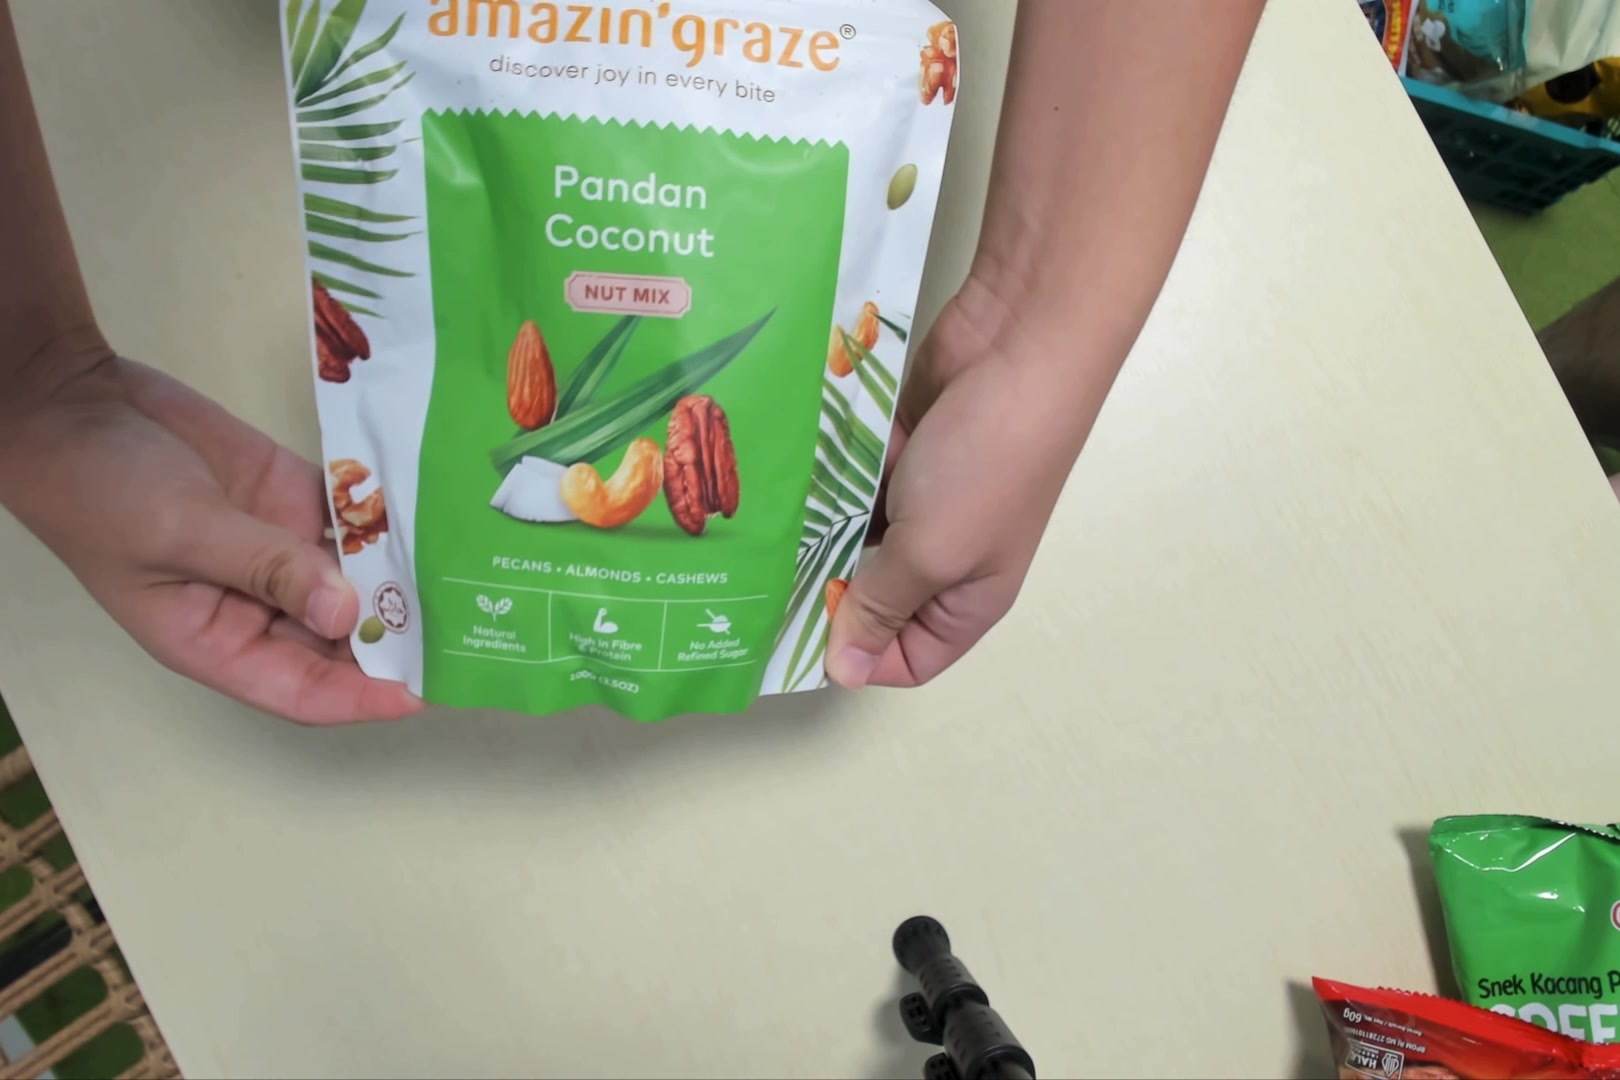Nuts_100-199g_Halal_NonHealthy: (288, 2, 962, 711)
